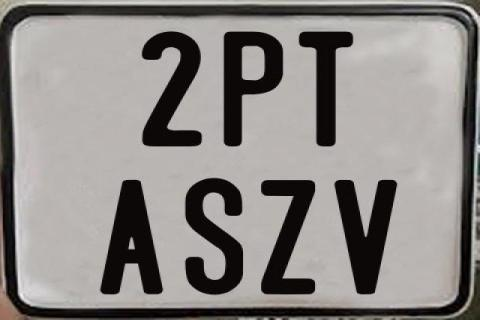0: (141, 30, 207, 148)
A: (100, 179, 164, 297)
P: (221, 31, 283, 151)
S: (184, 177, 244, 295)
T: (296, 31, 350, 149)
V: (332, 179, 396, 297)
Z: (260, 179, 314, 293)
